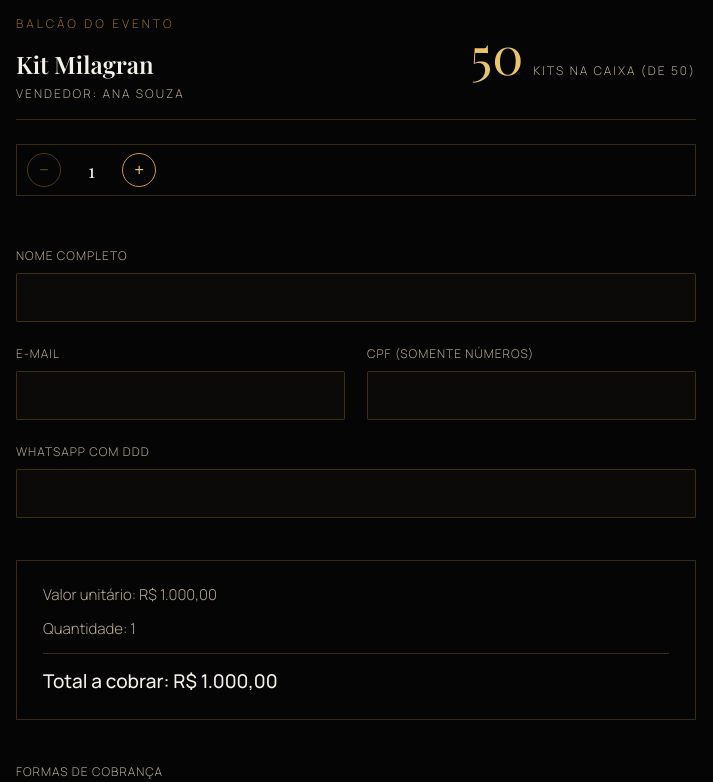
Test: VendaPresencial › DINHEIRO: o total acompanha a quantidade e nao inclui frete nenhum
This screenshot has width=713, height=782.
Expected: the text with test id "valor-unitario" reads "Valor unitário: R$ 1.000,00", [43,584,217,605]
Expected: the text with test id "total" reads "Total a cobrar: R$ 1.000,00", [43,653,669,697]
Click the button named "aumentar". click: (139, 170)
box: [122,153,156,187]
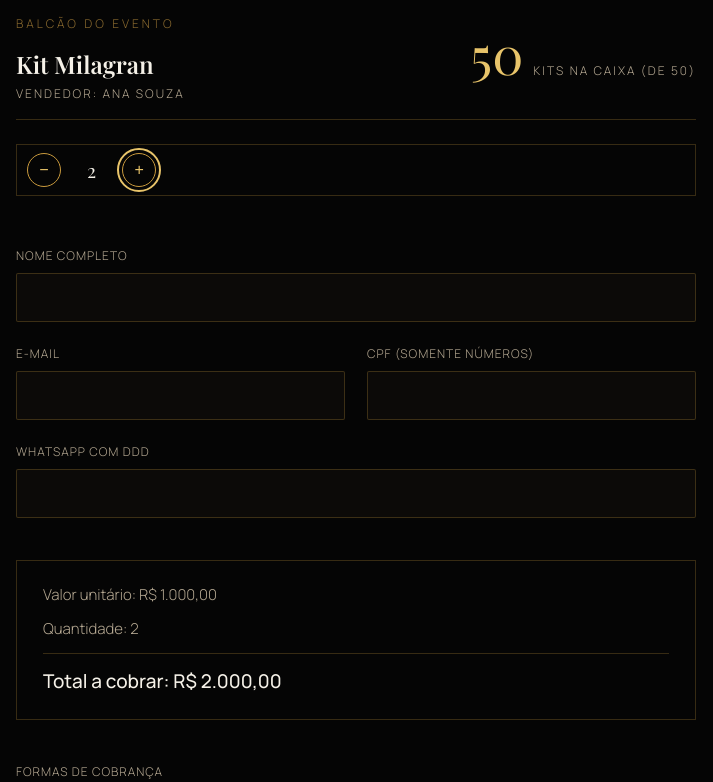
Click the button named "aumentar". click: (139, 170)
box: [122,153,156,187]
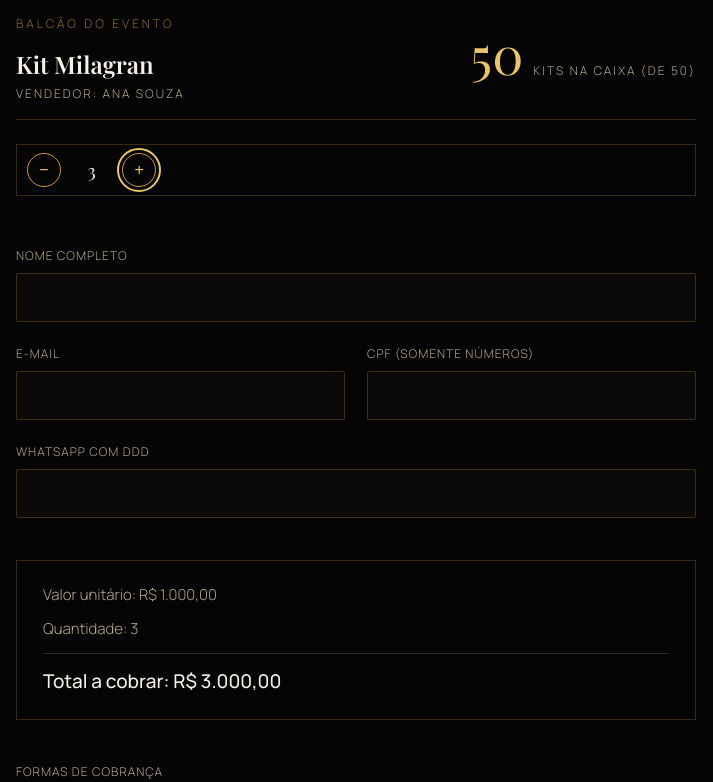
Now the text with test id "quantidade" reads "3", box [87,157,96,183]
Now the text with test id "total" reads "Total a cobrar: R$ 3.000,00", box [43,653,669,697]
